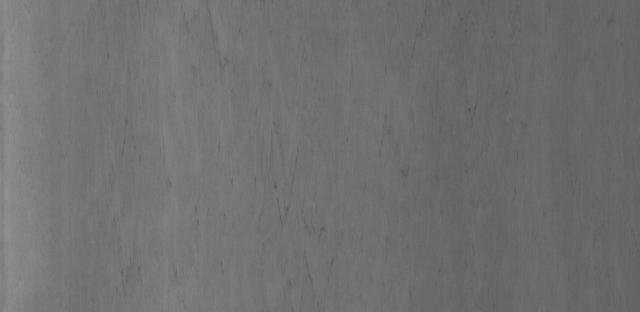silk_spot: (195, 94, 413, 294)
